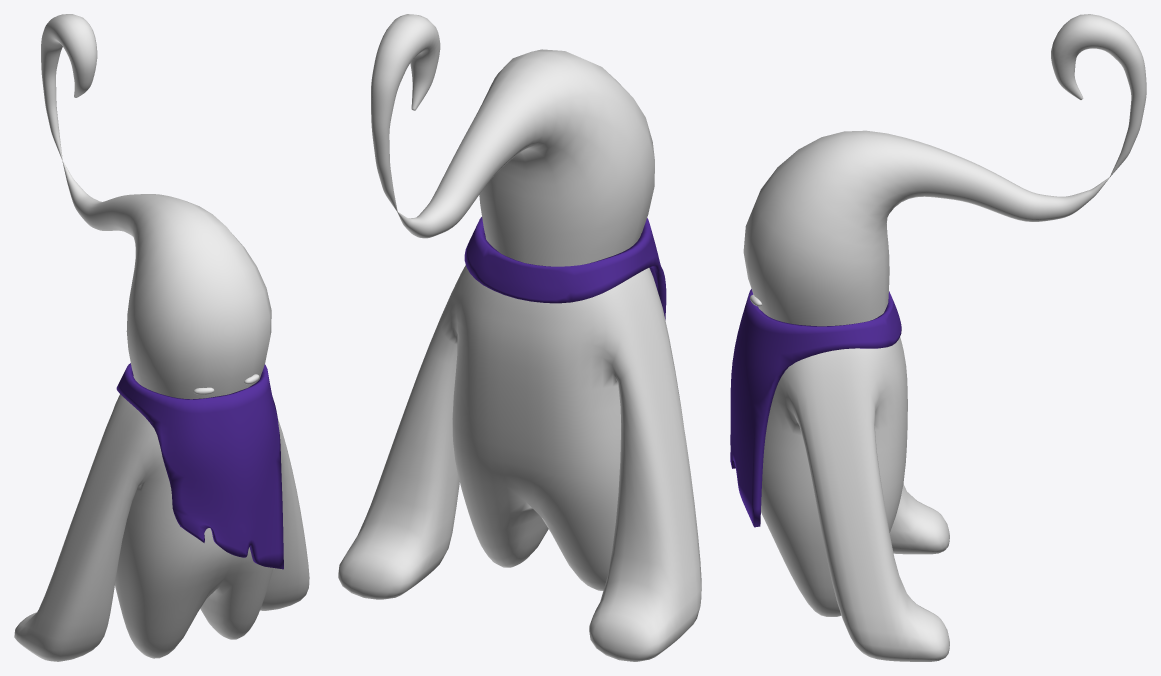
The model's file is milo.fbx.
3 renders of one model, left to right at view 1: azimuth 30°, elevation 25°; view 2: azimuth 150°, elevation 25°; view 3: azimuth 270°, elevation 25°, orthographic. The views are drawn at different scales.
Parts seen in each view (by area): view 1: cuerpo, cabeza, bandana; view 2: cuerpo, cabeza, bandana; view 3: cuerpo, cabeza, bandana.
Part boxes in pixels (x1,y1,x2,y2): cuerpo: (14,376,309,661); cabeza: (41,14,271,399); bandana: (116,363,283,569); cuerpo: (338,265,701,661); cabeza: (371,14,654,266); bandana: (464,217,666,319); cuerpo: (761,337,949,661); cabeza: (743,14,1146,326); bandana: (730,289,901,527).
Size of the model in its own units: 120 by 237 by 153.
